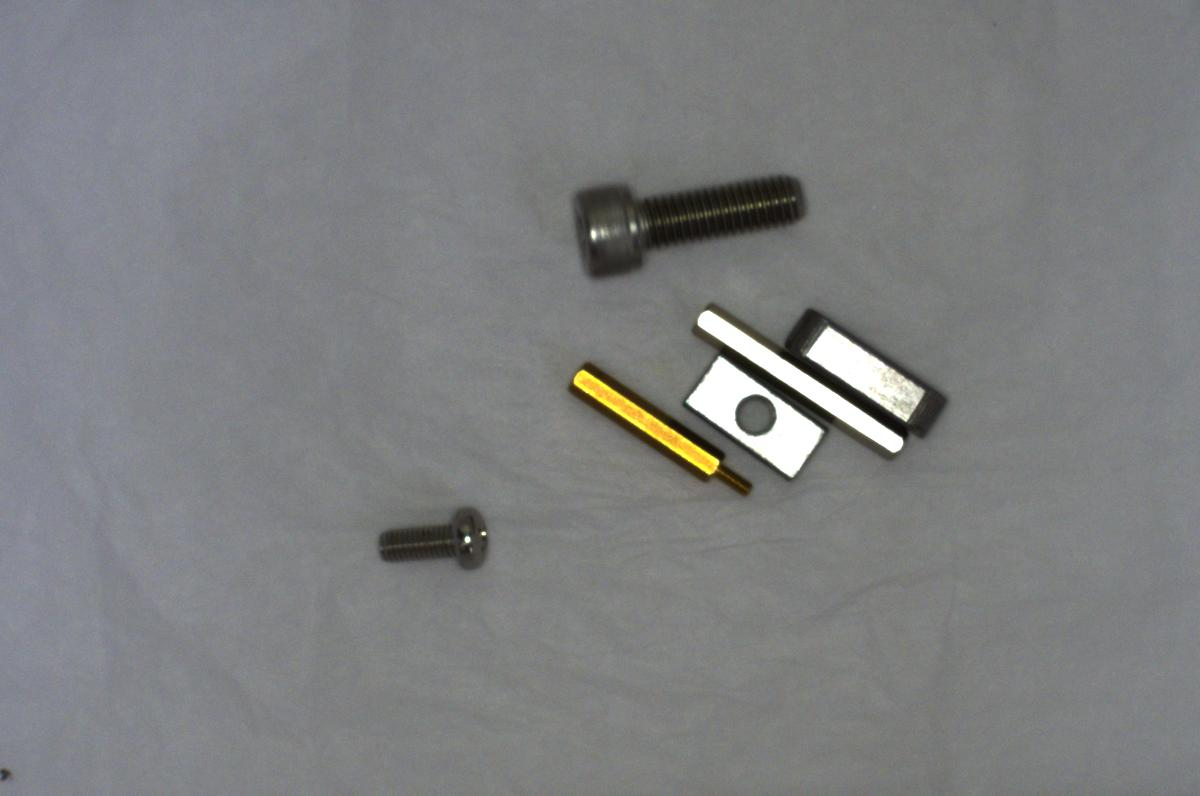Double hexagonal column: (687, 301, 907, 458)
Hexagon pillar: (555, 356, 766, 506)
Hexagon screw: (551, 153, 819, 285)
Keybar: (779, 299, 955, 449)
Rectangular nut: (678, 349, 828, 490)
Round head screw: (362, 499, 505, 582)
